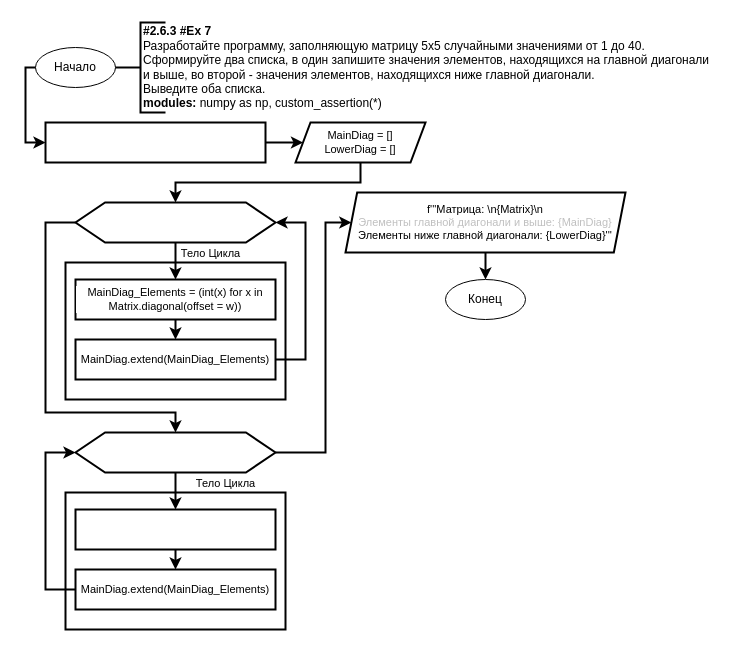
The diagram is 748 pixels wide and 647 high, and some of its shapes have lost their labels. The centre of each missing label's shape, as x and y in pixels:
"MainDiag_Elements = (int(x) for x in Matrix.diagonal(offset = -w))" belongs at point (175, 529).
"Matrix = np.random.randint(1, 41, (5, 5))" belongs at point (155, 142).
"w in range(1, Matrix.shape[0])" belongs at point (175, 452).
"w in range(Matrix.shape[0])" belongs at point (175, 222).
